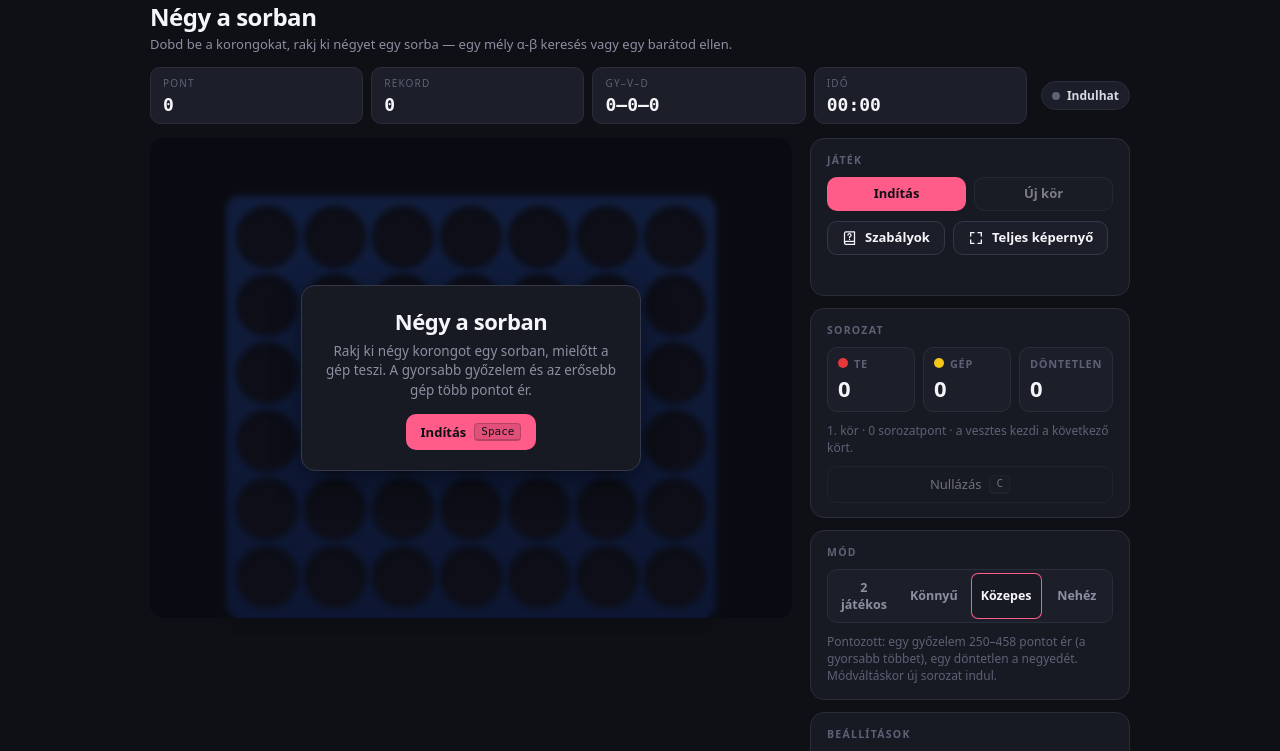
Test case: Connect Four finish early › is unranked in local two-player
Press n
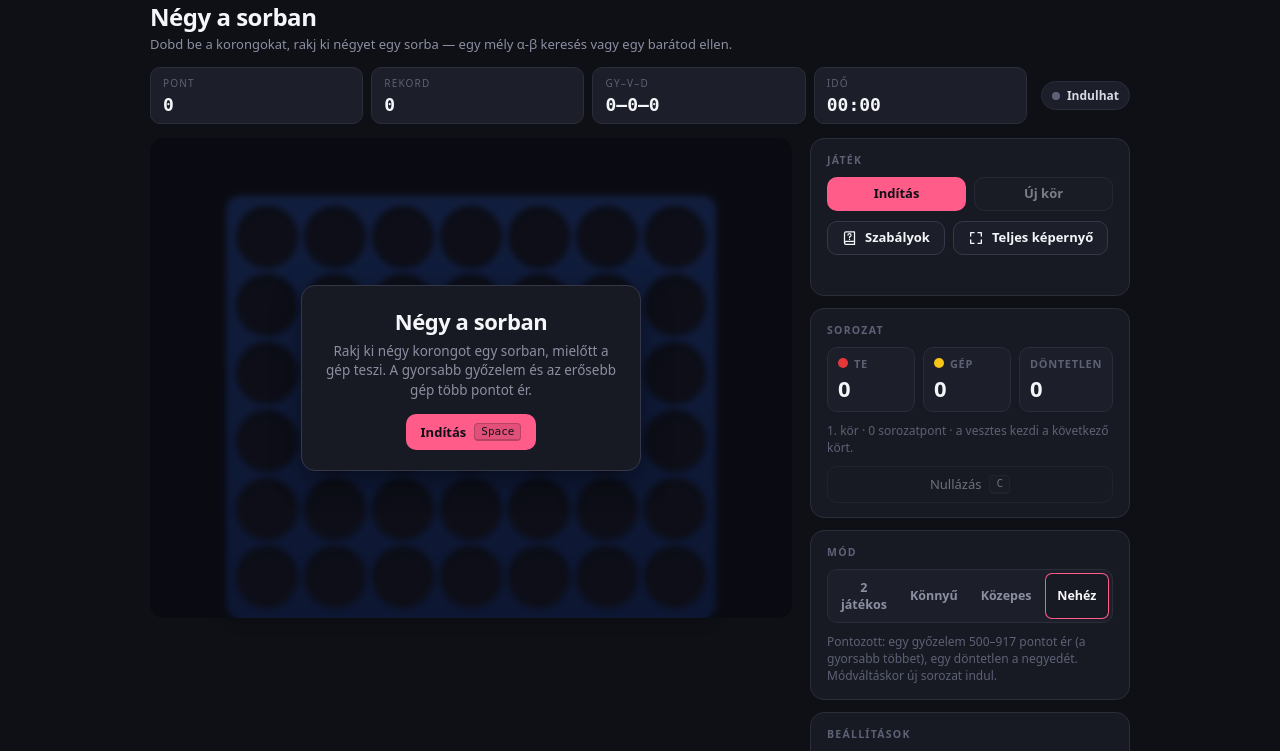
Press n
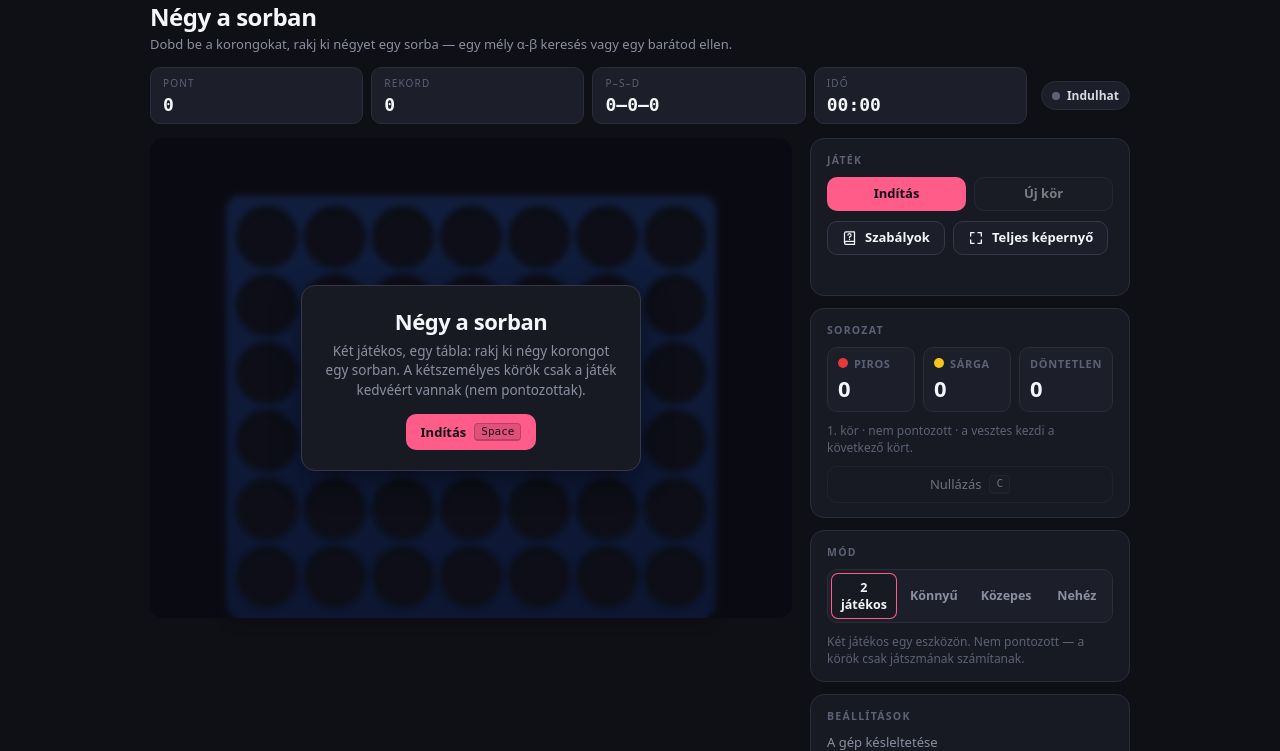
Press Space
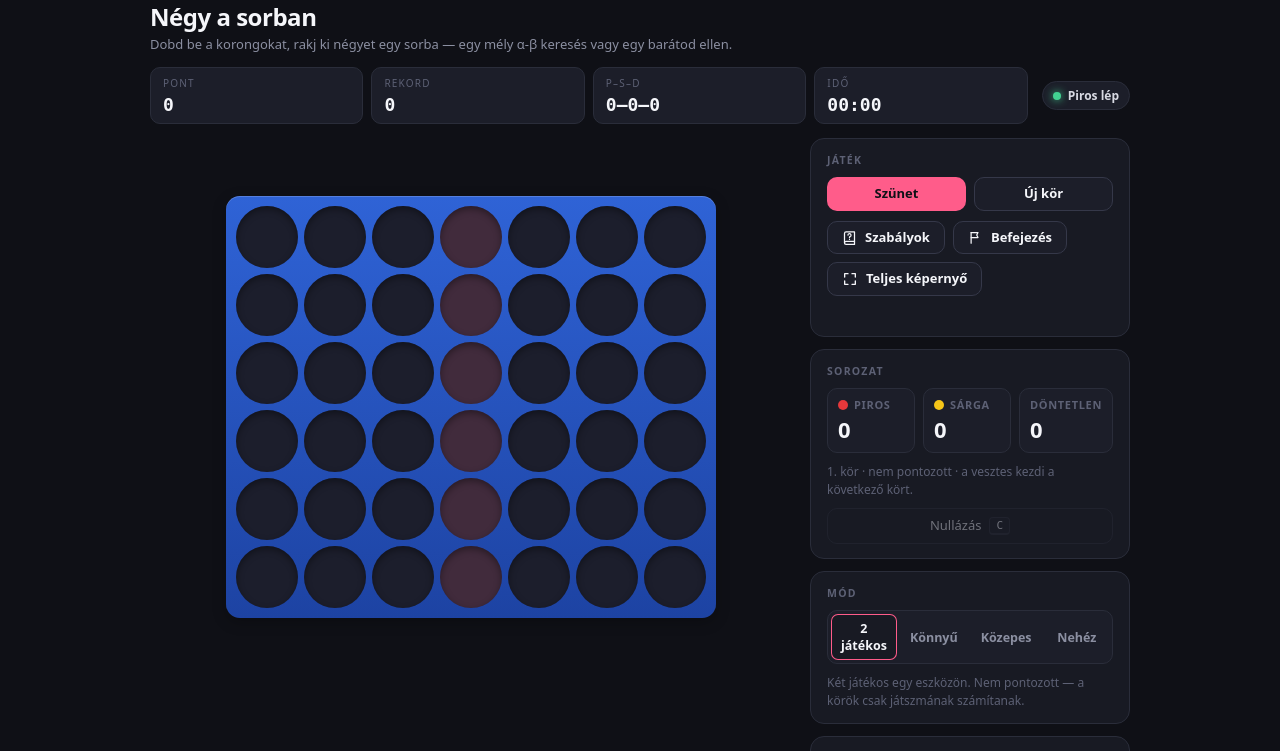
Click the button named "4. oszlop, üres".
click(471, 373)  # box top-left (440, 138), bottom-right (502, 608)
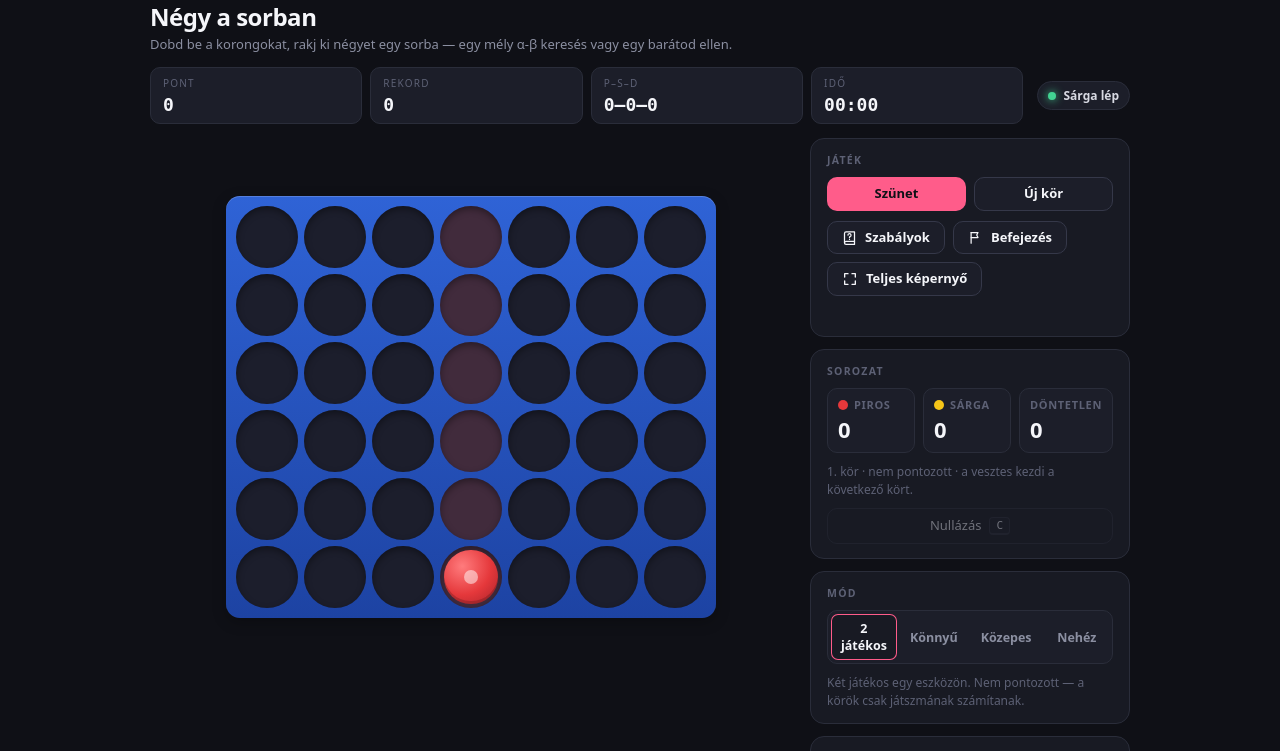
Click the button "Befejezés".
click(1010, 237)  # box top-left (953, 221), bottom-right (1067, 254)
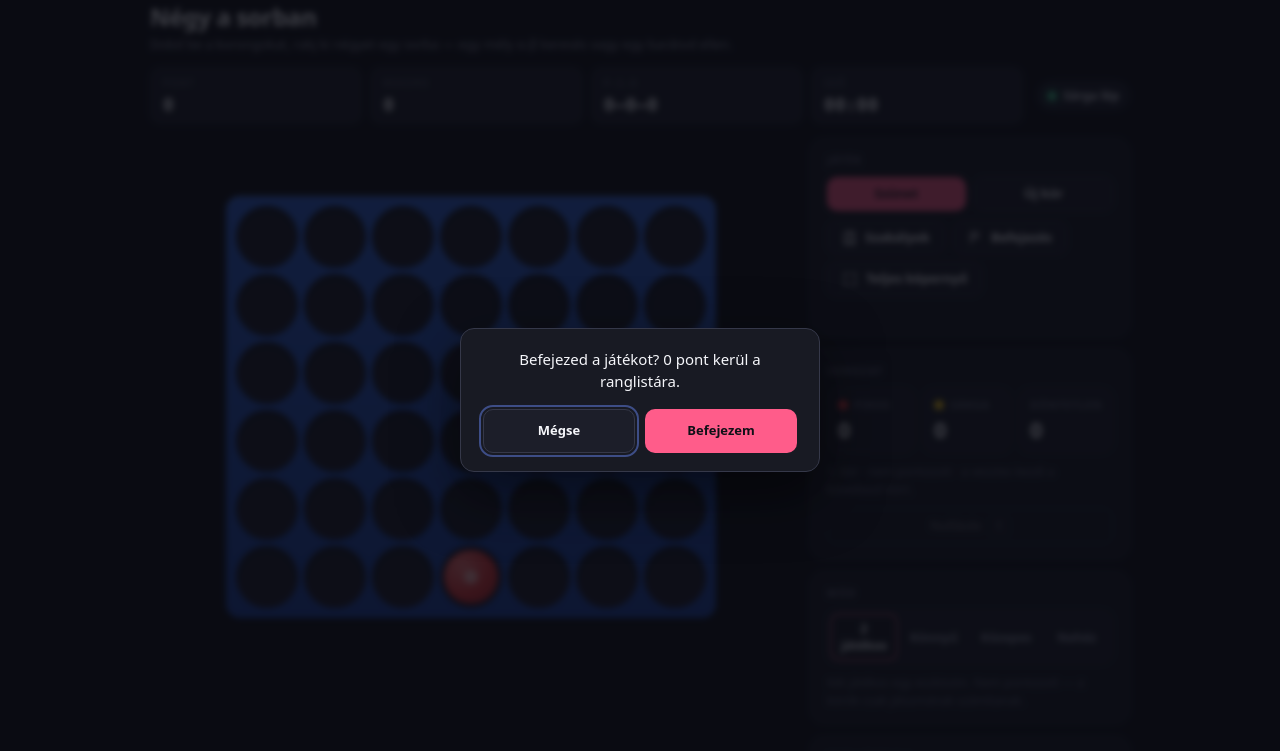
Click the button "Befejezem".
click(721, 431)  # box top-left (645, 409), bottom-right (797, 453)
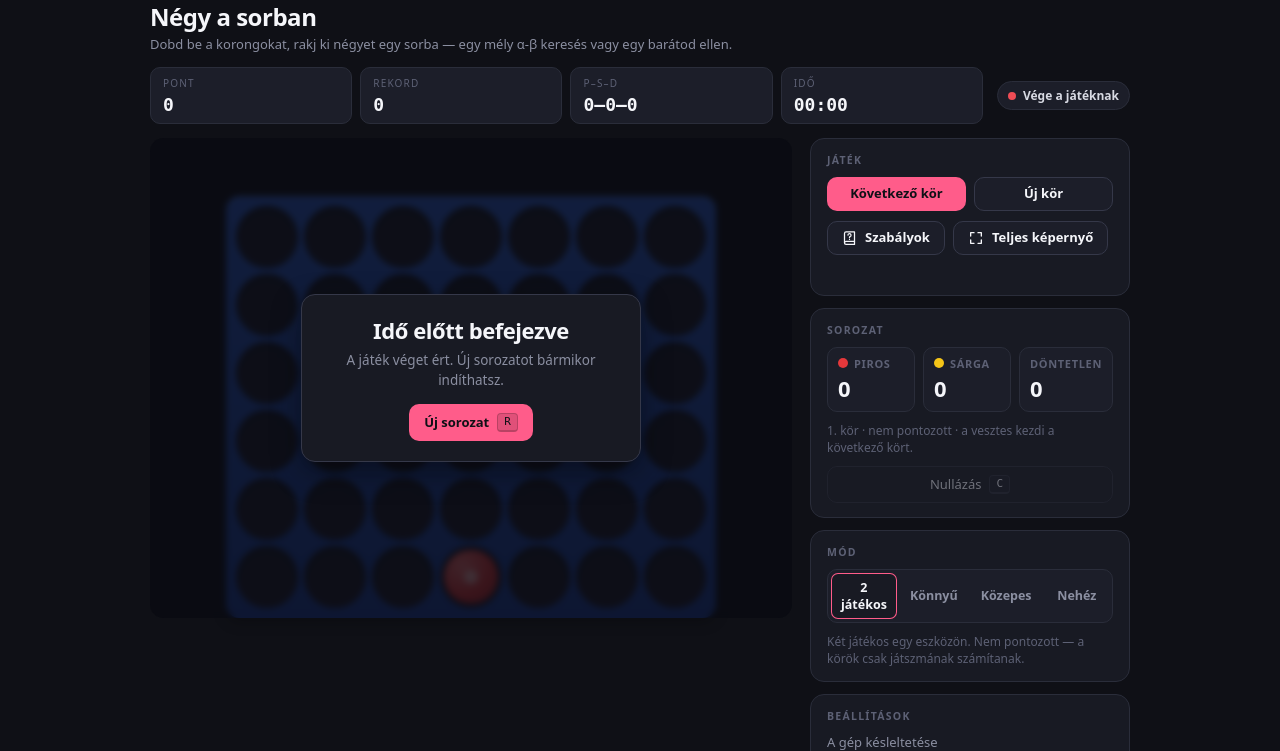
Result: the dialog "Idő előtt befejezve" is shown at top-left (150, 138), bottom-right (792, 618)
